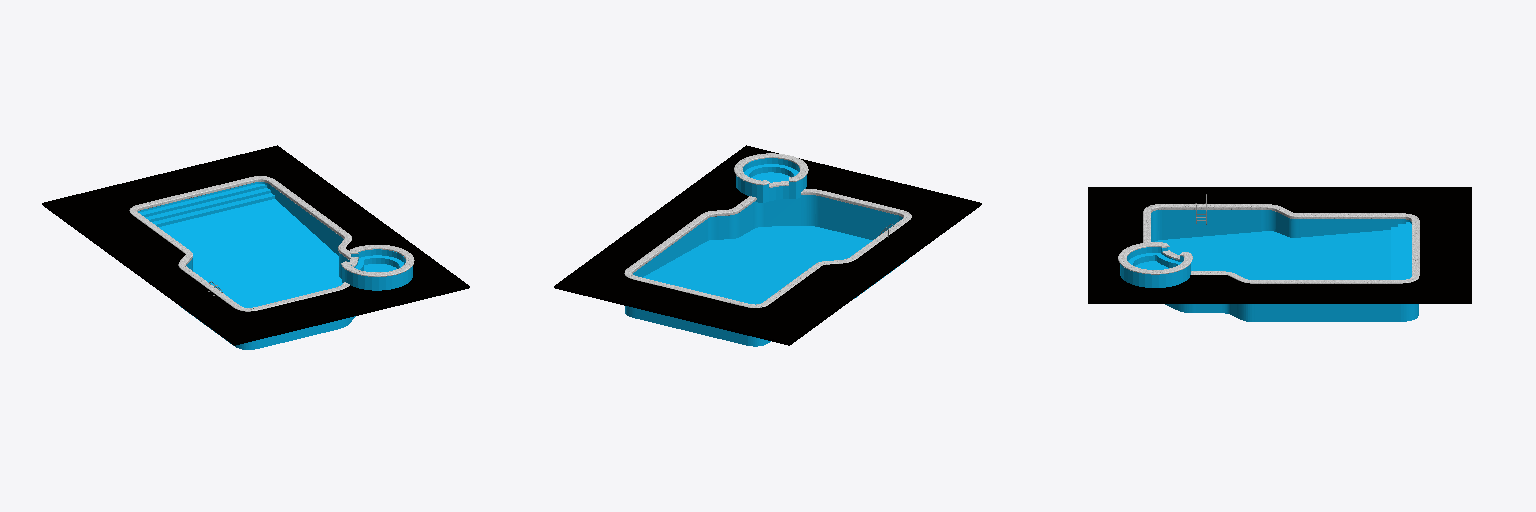
3 renders of one model, left to right at view 1: azimuth 30°, elevation 25°; view 2: azimuth 150°, elevation 25°; view 3: azimuth 270°, elevation 25°, orthographic.
Visible parts, largest first — view 1: doblerectangular_suelo_sombra, doblerectangular_sombra, doblerectangular_borde_sombra, escalera_obra_doblerectangular_sombra, jacuzzi_doblerectangular_sombra, jacuzzi_borde_doblerectangular_sombra; view 2: doblerectangular_suelo_sombra, doblerectangular_sombra, doblerectangular_borde_sombra, jacuzzi_doblerectangular_sombra, jacuzzi_borde_doblerectangular_sombra; view 3: doblerectangular_suelo_sombra, doblerectangular_sombra, doblerectangular_borde_sombra, jacuzzi_doblerectangular_sombra, escalera_obra_doblerectangular_sombra, jacuzzi_borde_doblerectangular_sombra.
Boxes of the visible parts, x1,y1,x2,y2 form: doblerectangular_suelo_sombra: [42, 145, 469, 345]; doblerectangular_sombra: [138, 182, 355, 349]; doblerectangular_borde_sombra: [129, 176, 351, 311]; escalera_obra_doblerectangular_sombra: [140, 184, 274, 226]; jacuzzi_doblerectangular_sombra: [342, 249, 412, 290]; jacuzzi_borde_doblerectangular_sombra: [341, 245, 414, 276]; doblerectangular_suelo_sombra: [554, 145, 981, 345]; doblerectangular_sombra: [625, 195, 906, 346]; doblerectangular_borde_sombra: [624, 189, 911, 307]; jacuzzi_doblerectangular_sombra: [736, 158, 806, 202]; jacuzzi_borde_doblerectangular_sombra: [734, 153, 808, 187]; doblerectangular_suelo_sombra: [1088, 187, 1471, 303]; doblerectangular_sombra: [1151, 210, 1418, 321]; doblerectangular_borde_sombra: [1143, 204, 1419, 283]; jacuzzi_doblerectangular_sombra: [1120, 247, 1190, 287]; escalera_obra_doblerectangular_sombra: [1391, 222, 1411, 279]; jacuzzi_borde_doblerectangular_sombra: [1118, 242, 1192, 274].
Bounding box in the file's own units: 669 × 147 × 945.
Materials: 4 (1 with a texture image).